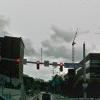Traffic light: (18, 53, 76, 79)
